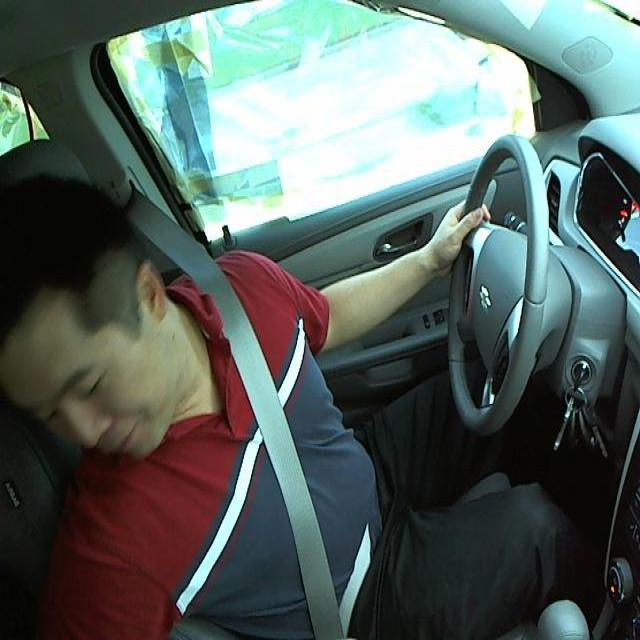seatbelt: (175, 282, 373, 634)
